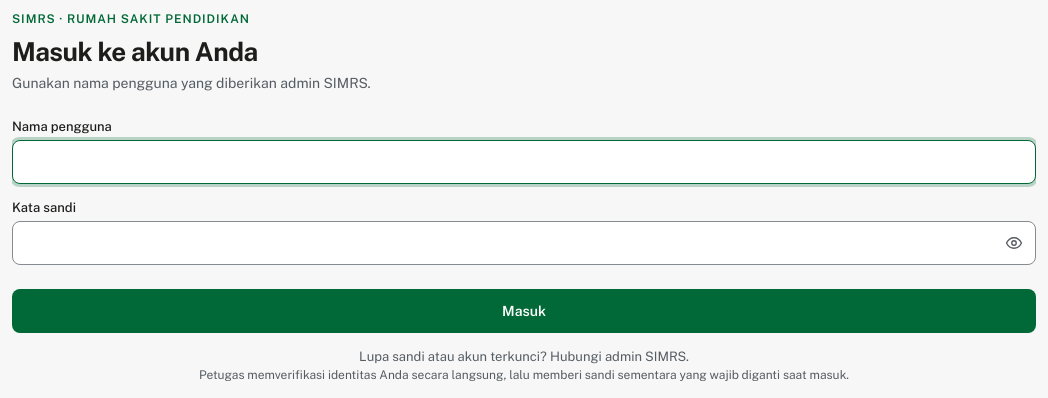
Test: LangkahSandi › tombol nonaktif dengan indikator selama proses, lalu aktif lagi
The image size is (1048, 398).
Type "contoh.perawat" into the field with id "nama-pengguna" at (524, 162), box [12,140,1036,184]
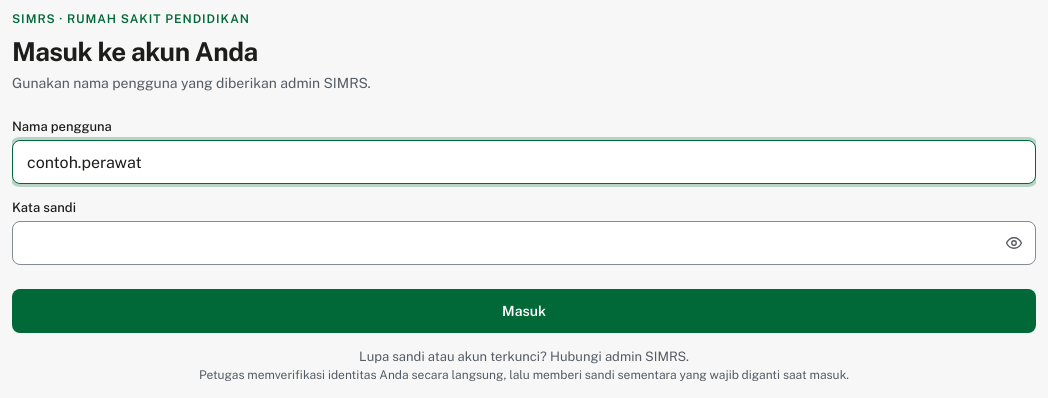
Type "sandi-panjang-sekali" into the password field with id "sandi" at (524, 243), box [12,221,1036,265]
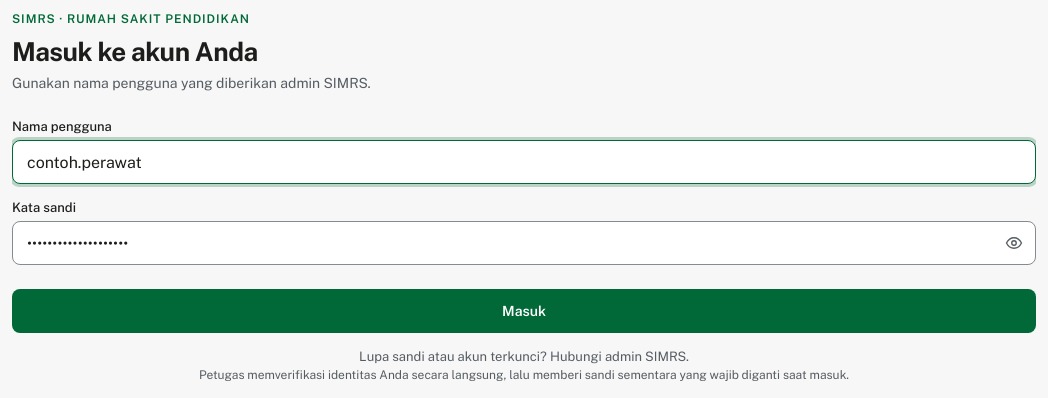
Submit the form, box [12,119,1036,333]
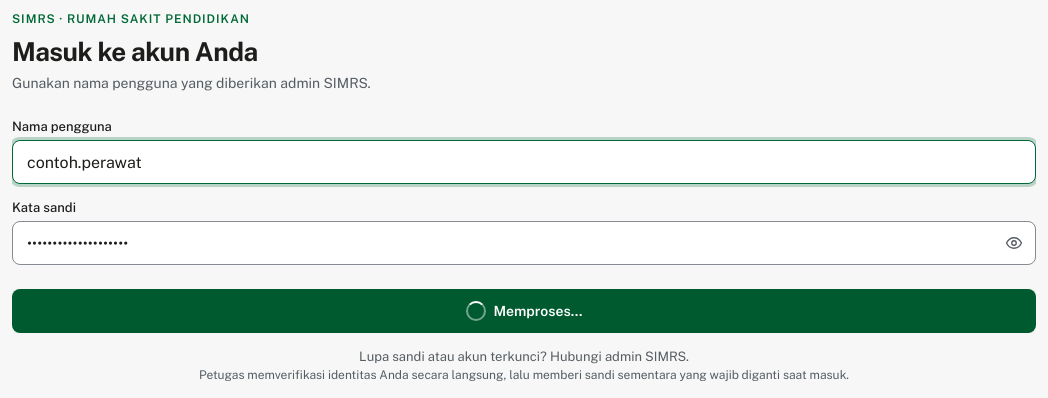
Expected: the submit button is disabled, [12,289,1036,333]
Expected: the submit button reads "Memproses…", [12,289,1036,333]
Expected: the element with class "tombol-pemutar" is shown, [466,301,486,321]
Submit the form, box [12,119,1036,333]
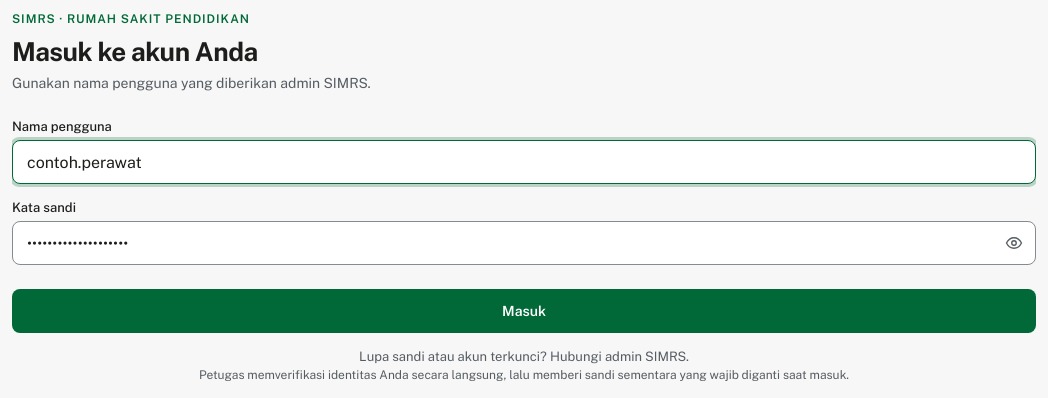
Expected: the submit button is enabled, [12,289,1036,333]
Expected: the submit button reads "Masuk", [12,289,1036,333]
